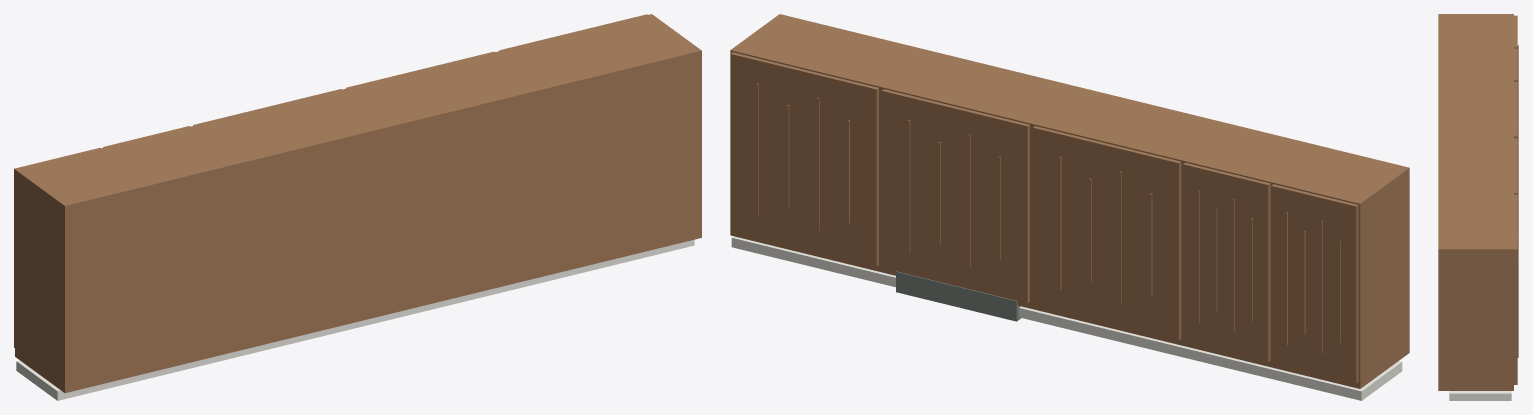
File: kitchen-overheads.glb
The picture shows the model from 3 angles, left to right: view 1: azimuth 30°, elevation 25°; view 2: azimuth 150°, elevation 25°; view 3: azimuth 270°, elevation 25°; orthographic projection. The views are drawn at different scales.
Parts seen in each view (by area): view 1: kitchen-overheads; view 2: kitchen-overheads; view 3: kitchen-overheads.
Part boxes in pixels (x1=…): kitchen-overheads: x1=14, y1=14, x2=701, y2=400; kitchen-overheads: x1=730, y1=14, x2=1409, y2=400; kitchen-overheads: x1=1438, y1=14, x2=1518, y2=400.
Size of the model in its own units: 2.5 by 0.7716 by 0.3615.
